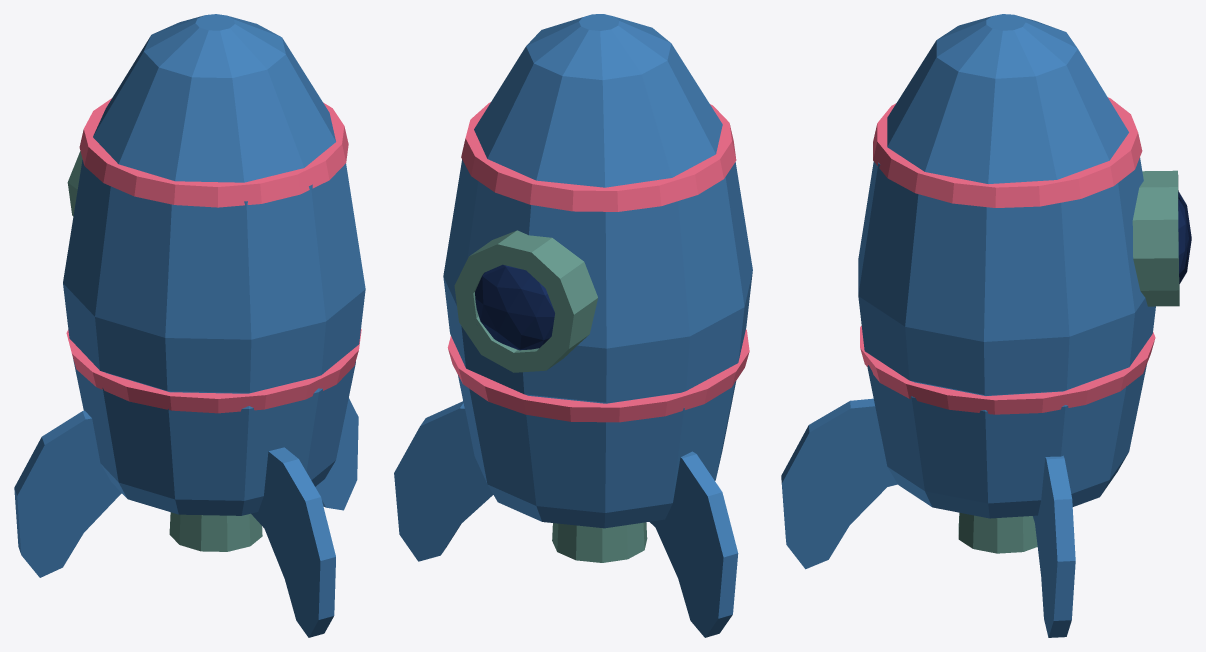
The model's file is Nau espacial_COLORES_BASE.fbx.
3 views of the same model, side by side, from view 1: azimuth 30°, elevation 25°; view 2: azimuth 150°, elevation 25°; view 3: azimuth 270°, elevation 25° (orthographic). The views are drawn at different scales.
Parts seen in each view (by area): view 1: bala, patita, patita.002, Cilindro.003, Cilindro.001, Cilindro, patita.001; view 2: bala, finestra, patita.001, patita, Cilindro.003, Cilindro.001, Esfera geodésica, Cilindro; view 3: bala, patita.002, Cilindro.003, Cilindro.001, finestra, patita.001, Cilindro, Esfera geodésica.
Boxes of the visible parts, x1,y1,x2,y2 form: bala: (63,14,365,515); patita: (14,410,121,577); patita.002: (251,447,335,637); Cilindro.003: (79,98,348,207); Cilindro.001: (66,329,361,413); Cilindro: (169,512,262,551); patita.001: (315,398,358,510); bala: (443,14,752,528); finestra: (454,230,597,372); patita.001: (394,401,493,561); patita: (649,451,738,637); Cilindro.003: (461,102,736,211); Cilindro.001: (447,329,749,422); Esfera geodésica: (475,264,554,350); Cilindro: (552,522,647,562); bala: (858,14,1155,518); patita.002: (781,398,897,569); Cilindro.003: (873,97,1142,207); Cilindro.001: (860,326,1155,414); finestra: (1132,170,1179,306); patita.001: (1033,455,1075,637); Cilindro: (958,512,1037,553); Esfera geodésica: (1178,191,1191,284).
Size of the model in its own units: 293 by 451 by 309.
